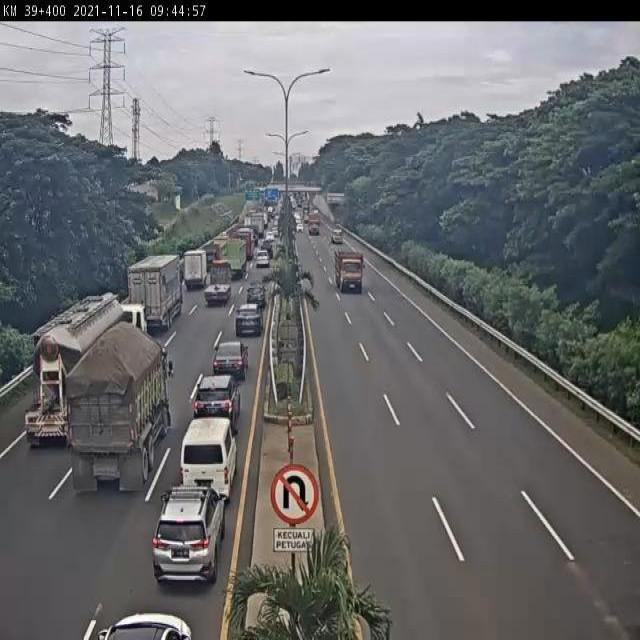car: (151, 488, 224, 581), (194, 375, 240, 433), (210, 345, 247, 383), (233, 308, 260, 341), (246, 283, 264, 308)
small bus: (179, 420, 237, 497)
truck-l-: (74, 334, 172, 489), (129, 253, 181, 329), (216, 237, 246, 280)
truck-m-: (334, 247, 364, 293), (204, 261, 233, 304), (180, 248, 205, 289)
truck-xl-: (26, 296, 146, 449)
